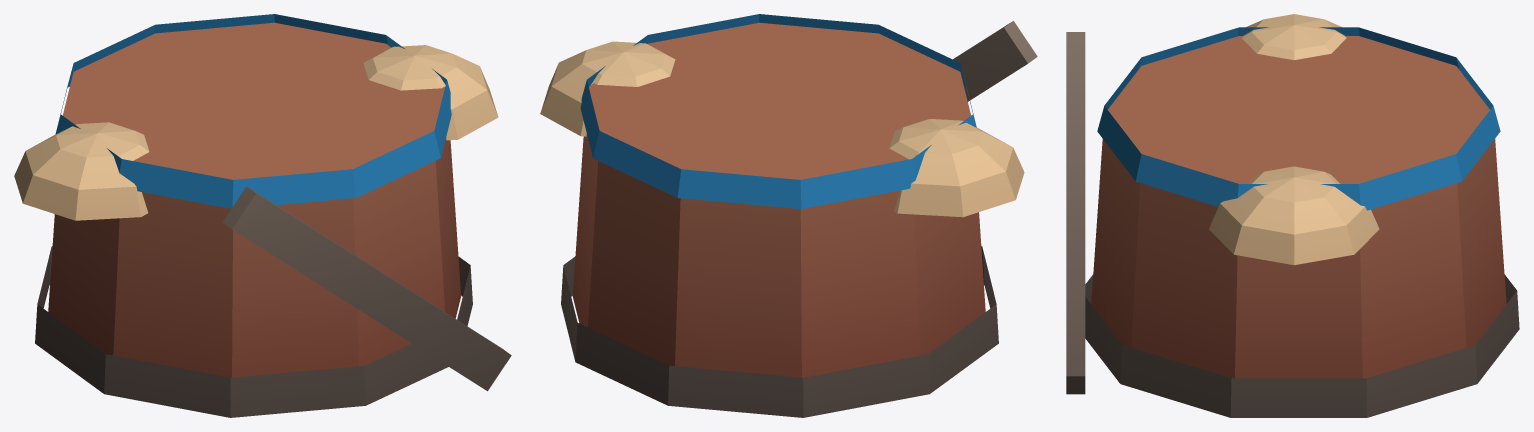
Rendered from hunter_chest_t2.glb.
3 renders of one model, left to right at view 1: azimuth 30°, elevation 25°; view 2: azimuth 150°, elevation 25°; view 3: azimuth 270°, elevation 25°, orthographic.
Visible parts, largest first — view 1: hunter_chest_t2__chest; view 2: hunter_chest_t2__chest; view 3: hunter_chest_t2__chest.
Part boxes in pixels (x1,y1,x2,y2): hunter_chest_t2__chest: (14,14,511,417); hunter_chest_t2__chest: (540,14,1037,417); hunter_chest_t2__chest: (1066,14,1519,417).
Size of the model in its own units: 1.12 by 0.5832 by 0.955.
Materials: 1 (1 with a texture image).
